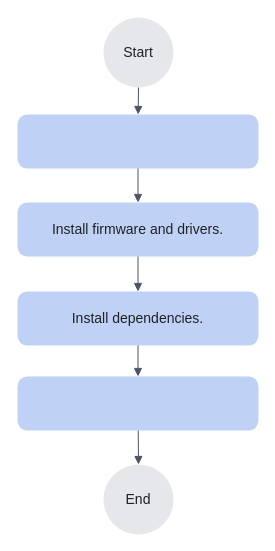
The diagram is 275 pixels wide and 551 high, and some of its shapes have lost their labels. Here are the shapes that lost their labels. From the top down, the centre of each, then its label:
At (137,141): "Prepare the software package.".
At (137,403): "Install RAG SDK.".
